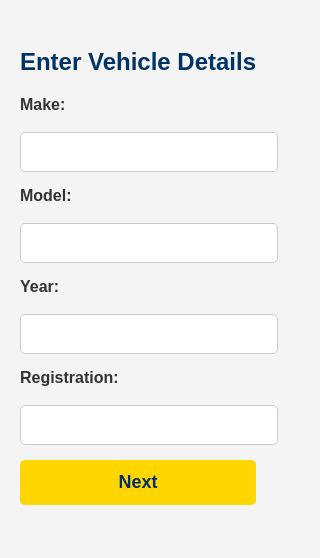
GetQuote Component › shows validation error for year out of range
In the field with test id "GetQuote-yearInput": (149, 334) [20,314,278,354], type "1800"
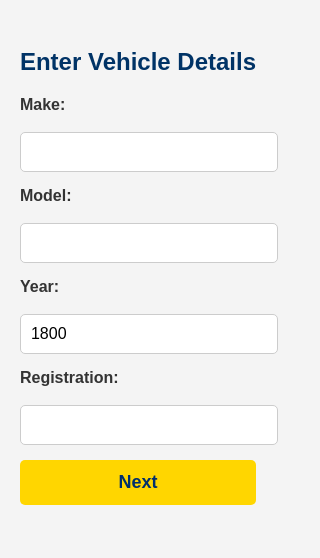
Click the button with test id "GetQuote-nextButton": (138, 483) [20,460,256,506]
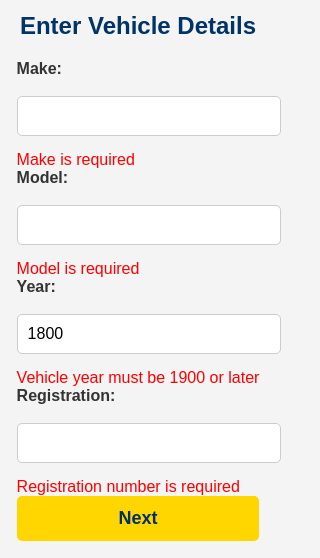
Result: the text with test id "GetQuote-yearError" reads "Vehicle year must be 1900 or later" at [17,370,259,386]
